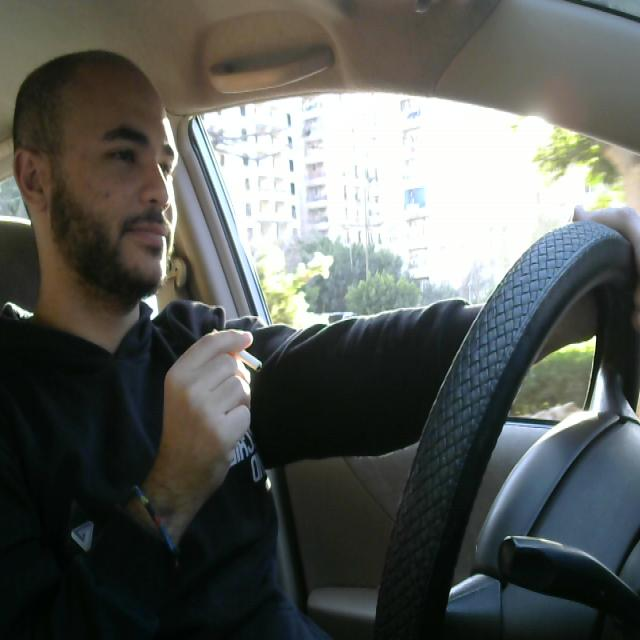smoking: (207, 326, 269, 374)
